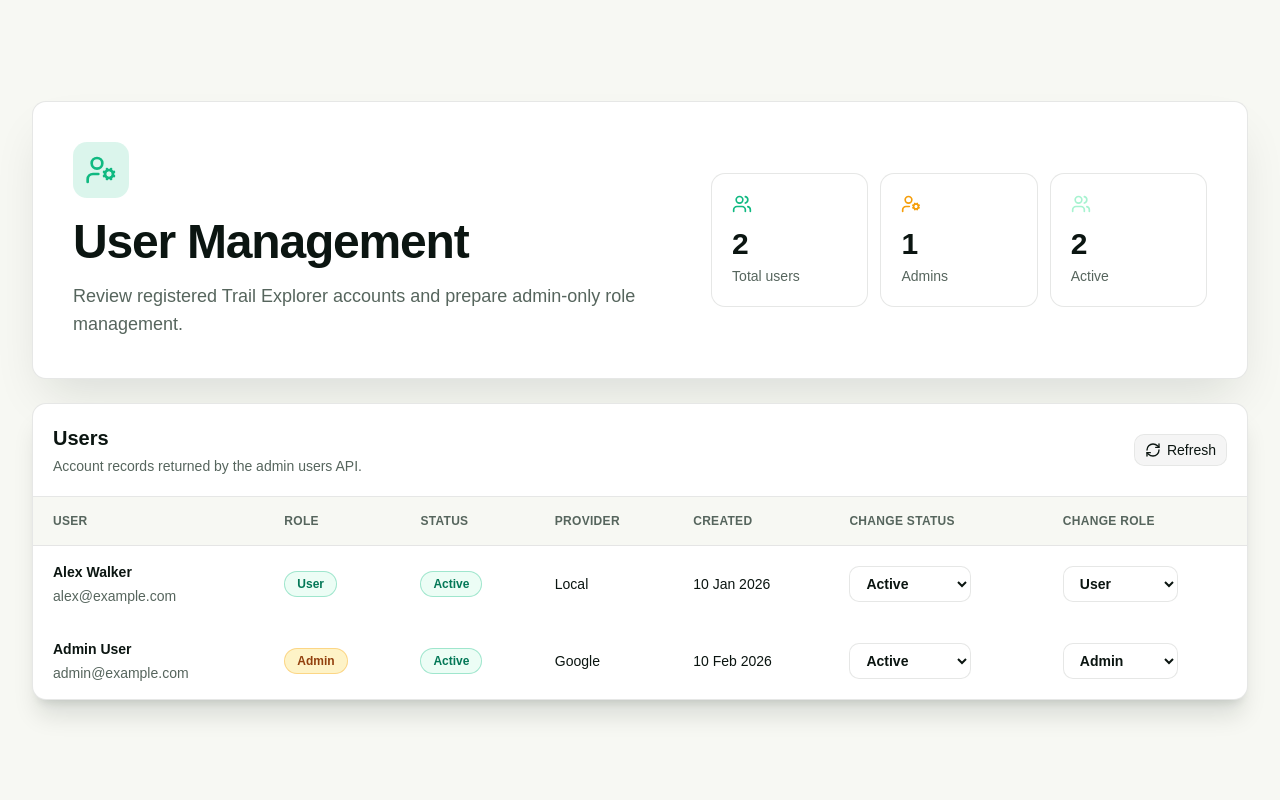
Test: UserManagementPage › does not update a user status when the confirmation is cancelled
Select "Suspended" in the 1st dropdown named "Change status for Alex Walker" at (910, 584), box [849,566,971,602]
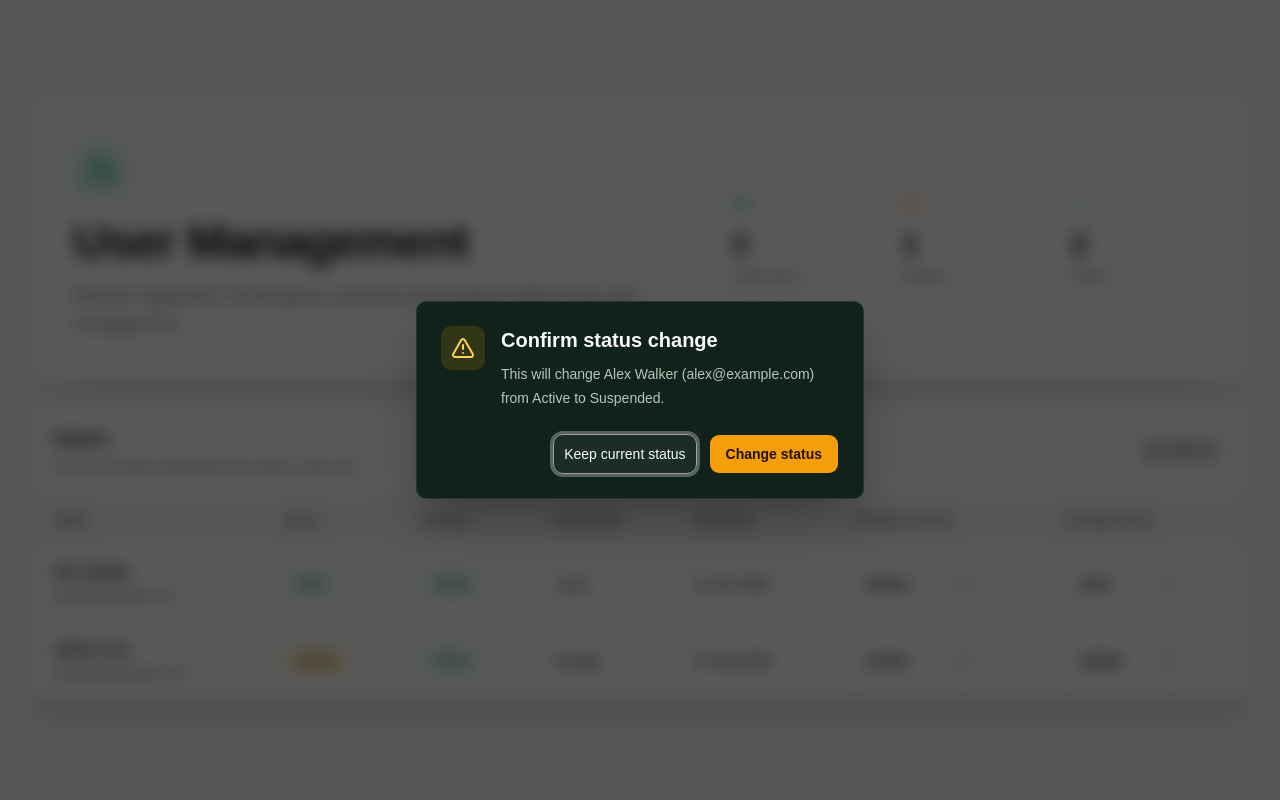
Check: the text "This will change Alex Walker (alex@example.com) from Active to Suspended." is shown, box [501,362,839,410]
Click the button "Keep current status" at (625, 454), box [553,434,696,474]
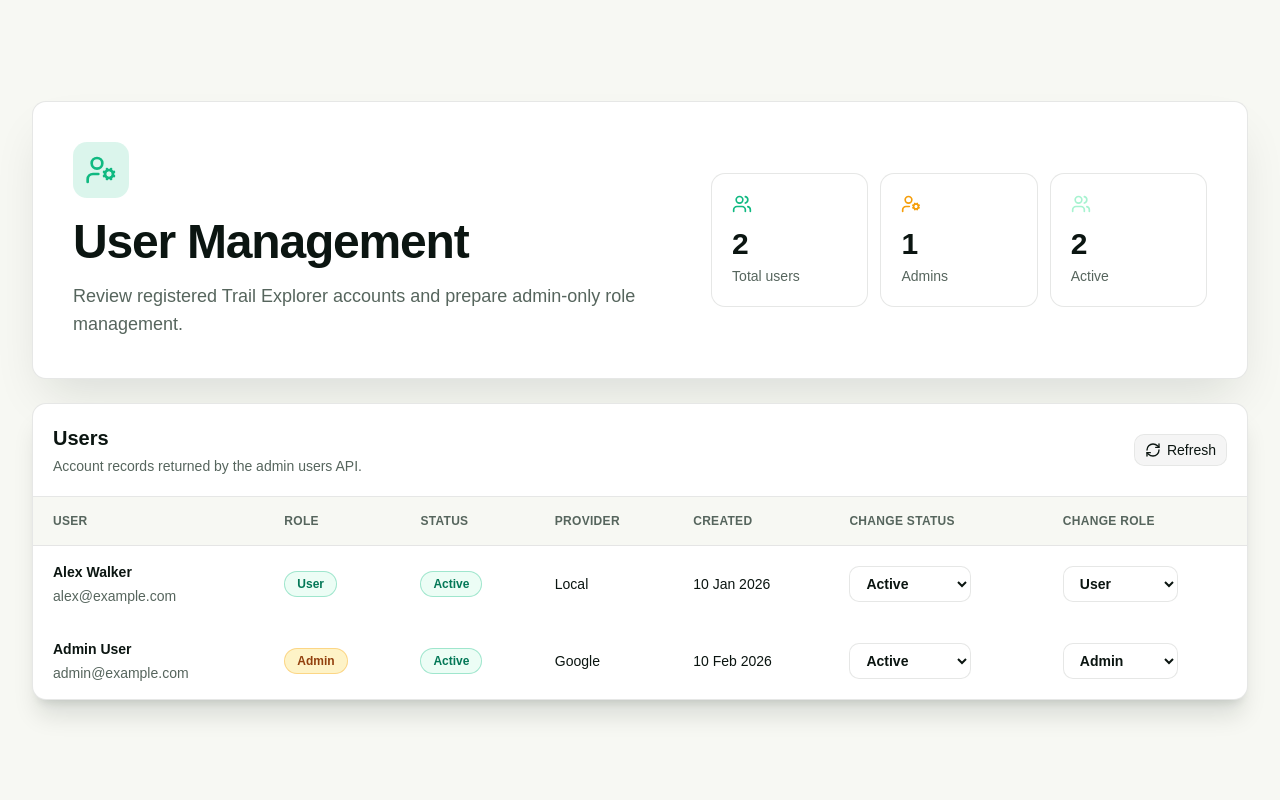
Check: the text "This will change Alex Walker (alex@example.com) from Active to Suspended." is gone
